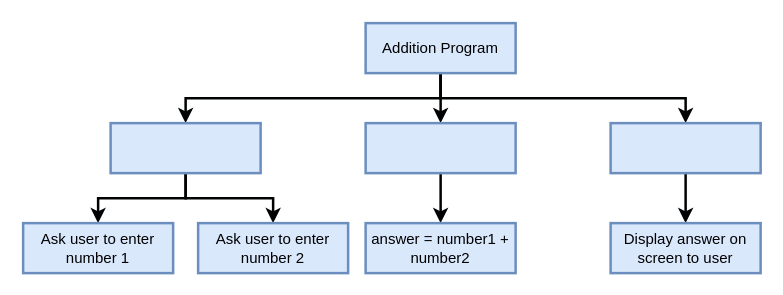
The diagram is 783 pixels wide and 295 high, and some of its shapes have lost their labels. The shapes that lost their labels are listed below. From the top down, each one's centre as x and y in pixels, then its label:
At [185,147]: "Get input".
At [440,147]: "Perform calculation".
At [685,147]: "Display output".
